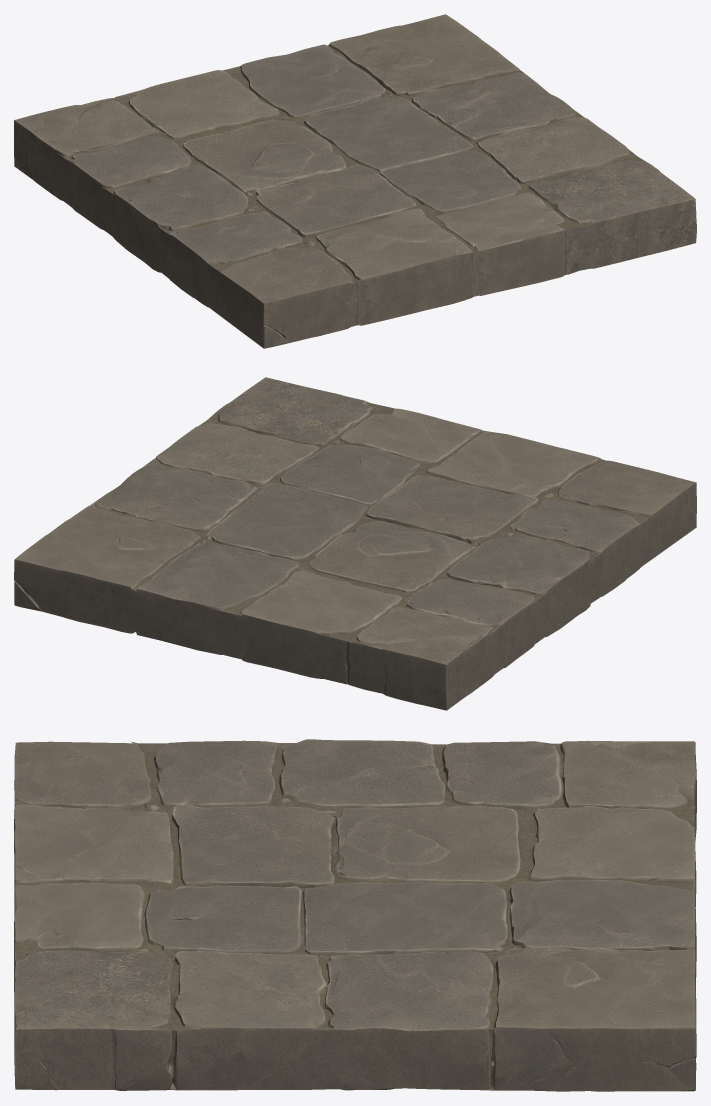
Rendered from floor.glb.
3 renders of one model, top to bottom at view 1: azimuth 30°, elevation 25°; view 2: azimuth 150°, elevation 25°; view 3: azimuth 270°, elevation 25°, orthographic. The views are drawn at different scales.
Parts seen in each view (by area): view 1: output_unwrapped; view 2: output_unwrapped; view 3: output_unwrapped.
Boxes of the visible parts, x1,y1,x2,y2 form: output_unwrapped: (14,14,696,348); output_unwrapped: (14,377,696,710); output_unwrapped: (14,739,696,1091).
Size of the model in its own units: 1.9 by 0.2168 by 1.9.
Materials: 1 (1 with a texture image).
